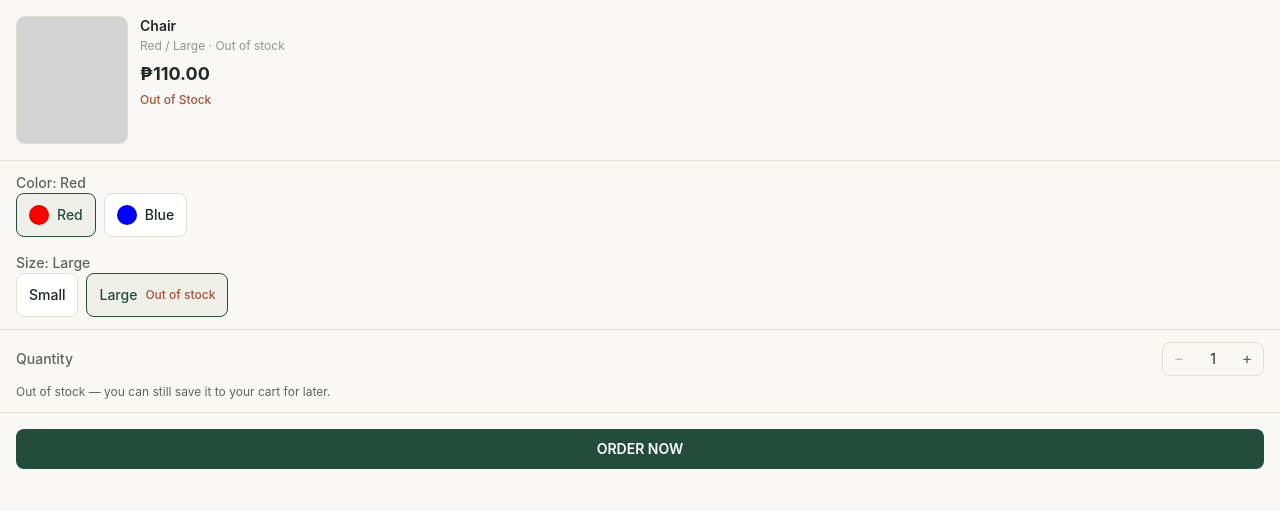
QuickAddView › refuses an out-of-stock order-now confirmation without navigating
What coordinates should you click on to do the following:
click the button with test id "picker-confirm-chair"
I would click on:
 (640, 449)
Its box is [16,429,1264,469].
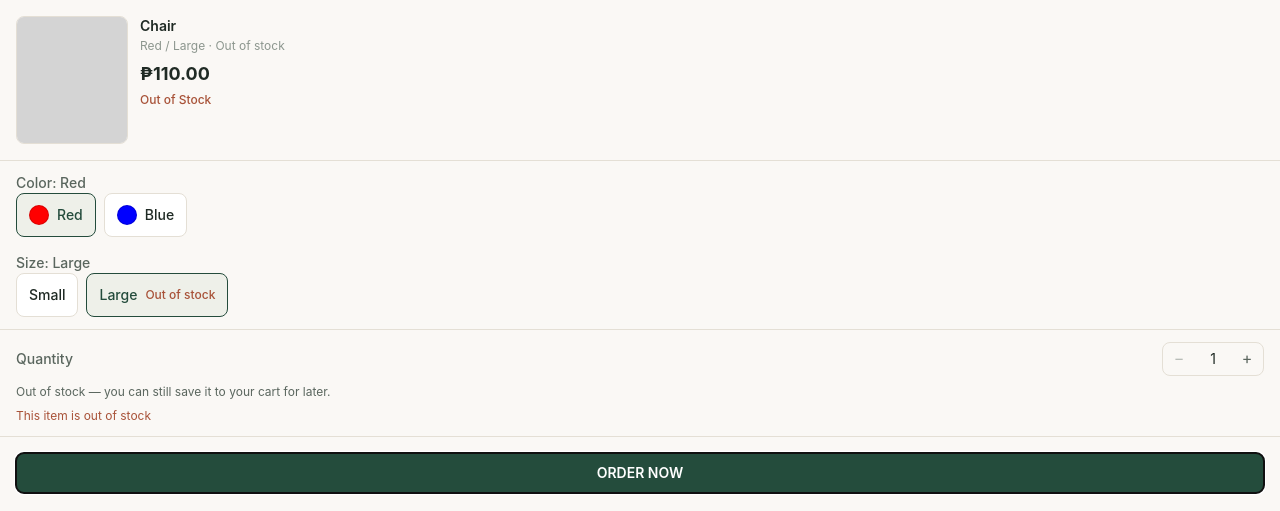
Expected: the message with test id "picker-error-chair" reads "This item is out of stock", [16,408,151,423]
